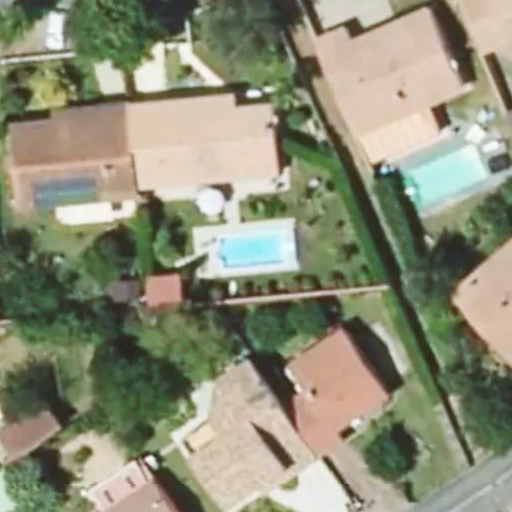pool: (220, 227, 293, 257)
